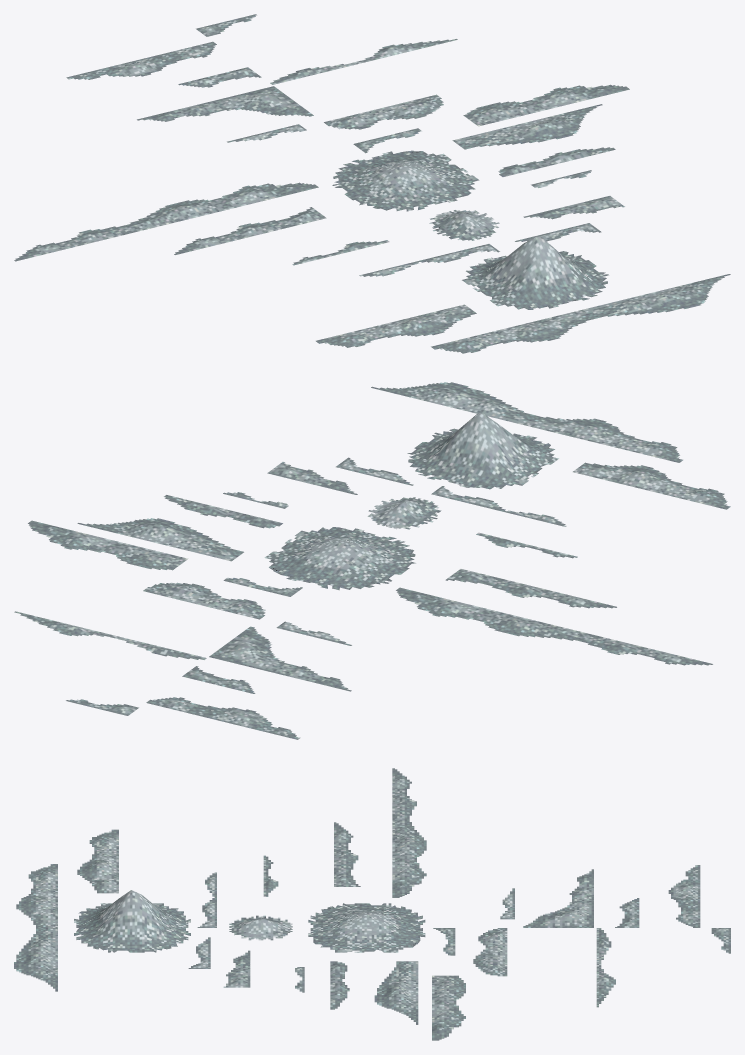
The model's file is ObjMD_Snow_A_groundcover_low.FBX.
3 renders of one model, top to bottom at view 1: azimuth 30°, elevation 25°; view 2: azimuth 150°, elevation 25°; view 3: azimuth 270°, elevation 25°, orthographic. The views are drawn at different scales.
Visible parts, largest first — view 1: ObjMD_Snow_A_groundcover, ObjMD_Snow_A_groundcover_low, ObjMD_Snow_Grd_A, ObjMD_Snow_Grd_I, ObjMD_Snow_Grd_O, ObjMD_Snow_Grd_N, ObjMD_Snow_Grd_P, ObjMD_Snow_Grd_D, ObjMD_Snow_Grd_B, ObjMD_Snow_Grd_C, ObjMD_Snow_Grd_M, ObjMD_Snow_A_groundcover_small (+5 smaller); view 2: ObjMD_Snow_A_groundcover, ObjMD_Snow_A_groundcover_low, ObjMD_Snow_Grd_A, ObjMD_Snow_Grd_I, ObjMD_Snow_Grd_O, ObjMD_Snow_Grd_N, ObjMD_Snow_Grd_P, ObjMD_Snow_Grd_D, ObjMD_Snow_Grd_B, ObjMD_Snow_Grd_C, ObjMD_Snow_Grd_M, ObjMD_Snow_A_groundcover_small (+6 smaller); view 3: ObjMD_Snow_A_groundcover, ObjMD_Snow_A_groundcover_low, ObjMD_Snow_Grd_A, ObjMD_Snow_Grd_I, ObjMD_Snow_Grd_O, ObjMD_Snow_Grd_N, ObjMD_Snow_Grd_P, ObjMD_Snow_Grd_D, ObjMD_Snow_Grd_B, ObjMD_Snow_Grd_C, ObjMD_Snow_A_groundcover_small, ObjMD_Snow_Grd_M (+5 smaller).
Part boxes in pixels (x1,y1,x2,y2): ObjMD_Snow_A_groundcover: (462,236,608,309); ObjMD_Snow_A_groundcover_low: (332,150,479,211); ObjMD_Snow_Grd_A: (431,274,730,353); ObjMD_Snow_Grd_I: (14,182,318,261); ObjMD_Snow_Grd_O: (452,104,602,149); ObjMD_Snow_Grd_N: (316,304,476,347); ObjMD_Snow_Grd_P: (463,84,629,126); ObjMD_Snow_Grd_D: (137,86,313,121); ObjMD_Snow_Grd_B: (66,41,216,79); ObjMD_Snow_Grd_C: (324,94,443,129); ObjMD_Snow_Grd_M: (174,207,326,254); ObjMD_Snow_A_groundcover_small: (429,210,499,240); ObjMD_Snow_A_groundcover: (407,413,558,489); ObjMD_Snow_A_groundcover_low: (264,527,415,590); ObjMD_Snow_Grd_A: (371,382,682,462); ObjMD_Snow_Grd_I: (396,587,712,665); ObjMD_Snow_Grd_O: (77,518,243,561); ObjMD_Snow_Grd_N: (573,462,730,509); ObjMD_Snow_Grd_P: (28,520,188,570); ObjMD_Snow_Grd_D: (209,626,351,691); ObjMD_Snow_Grd_B: (146,697,300,739); ObjMD_Snow_Grd_C: (143,582,265,619); ObjMD_Snow_Grd_M: (445,569,616,608); ObjMD_Snow_A_groundcover_small: (367,497,441,529); ObjMD_Snow_A_groundcover: (74,890,190,952); ObjMD_Snow_A_groundcover_low: (308,903,425,952); ObjMD_Snow_Grd_A: (14,864,57,991); ObjMD_Snow_Grd_I: (392,768,426,897); ObjMD_Snow_Grd_O: (374,961,418,1024); ObjMD_Snow_Grd_N: (77,829,118,893); ObjMD_Snow_Grd_P: (432,975,465,1040); ObjMD_Snow_Grd_D: (523,869,593,927); ObjMD_Snow_Grd_B: (668,865,700,927); ObjMD_Snow_Grd_C: (473,928,507,976); ObjMD_Snow_A_groundcover_small: (229,915,292,940); ObjMD_Snow_Grd_M: (334,822,360,886).
Size of the model in its own units: 1653 by 110 by 1839.
